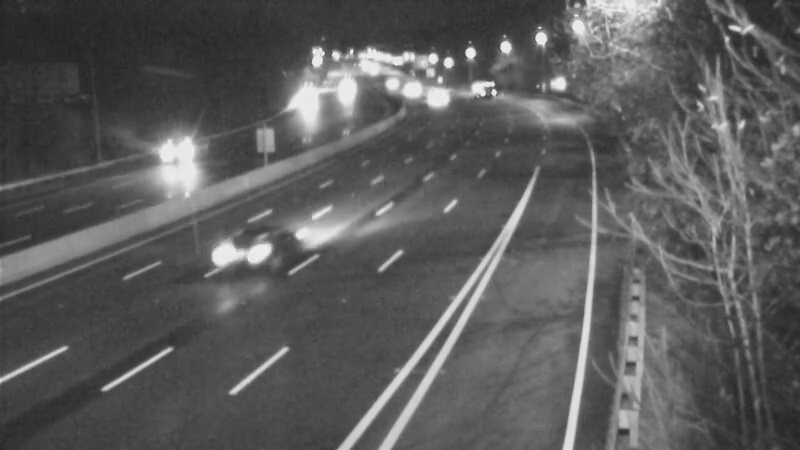vehicle: (204, 209, 284, 289), (369, 60, 419, 110), (456, 63, 506, 113), (384, 63, 434, 113), (409, 72, 459, 122), (150, 123, 200, 173)
